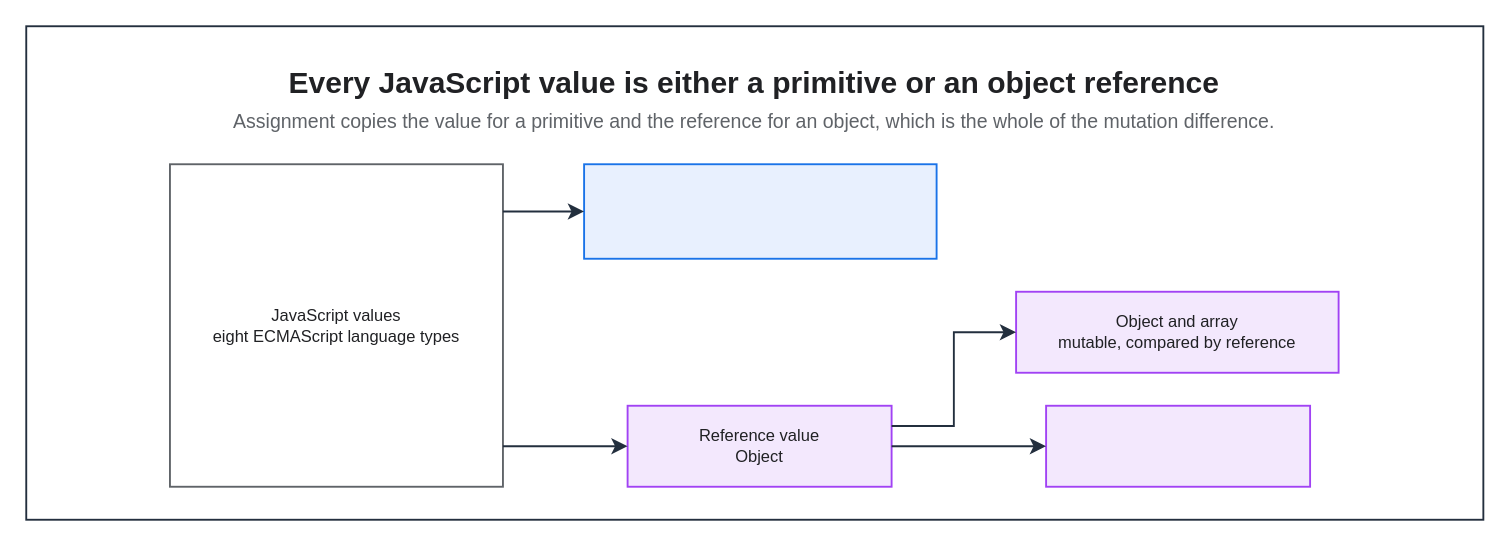
Image size: 1511x548. Some labels were removed from this diagram. Each missing label, with the box of its shape:
Function a callable object: (1044, 404, 1310, 487)
Primitive values Undefined, Null, Boolean, Number, BigInt, String, Symbol: (582, 163, 937, 259)
